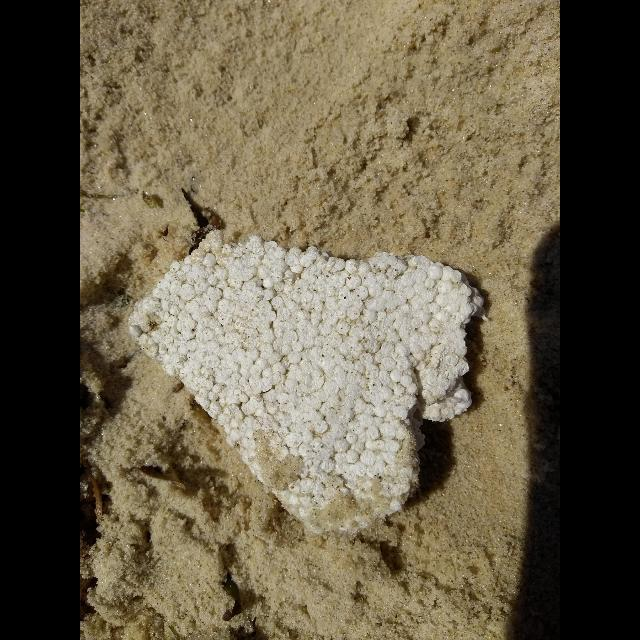Plastic: (130, 230, 488, 532)
